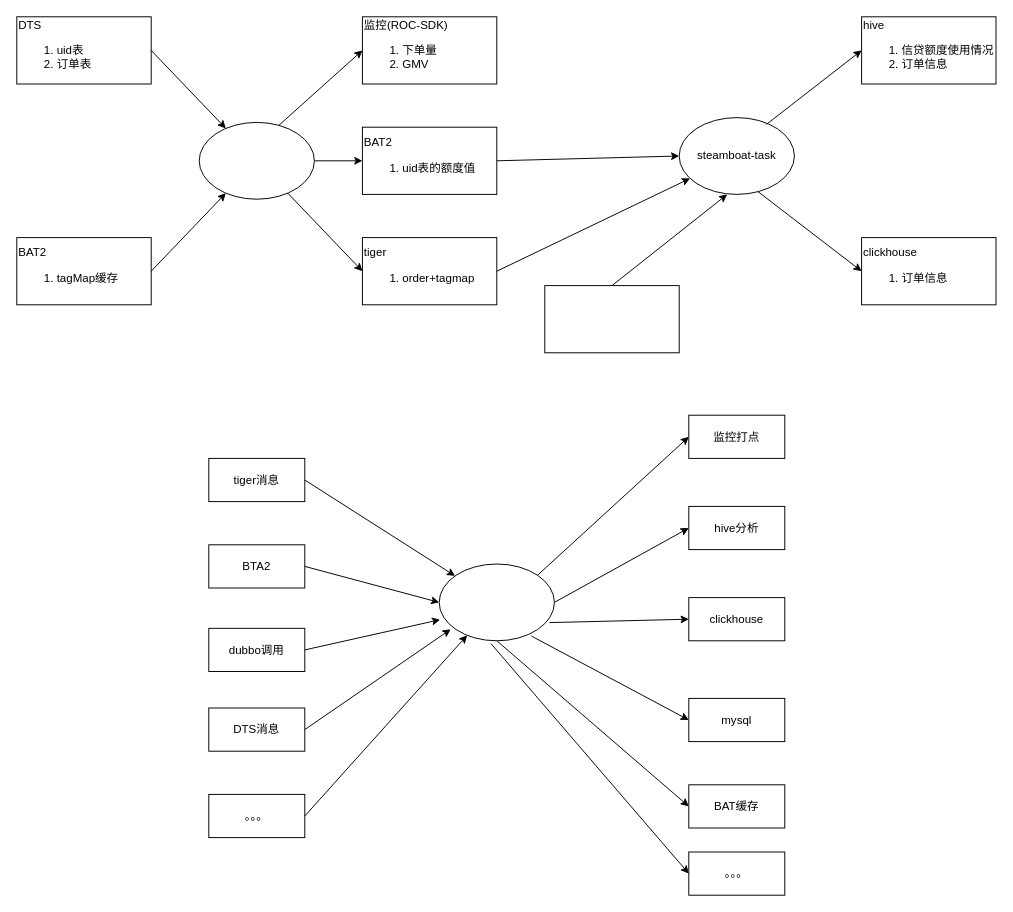
The diagram is 1013 pixels wide and 912 high, and some of its shapes have lost their labels. Each missing label, with the centre of its shape:
newService: the point at 496,602
snowmass-task: the point at 256,160
tiger 业务侧消息: the point at 611,319
